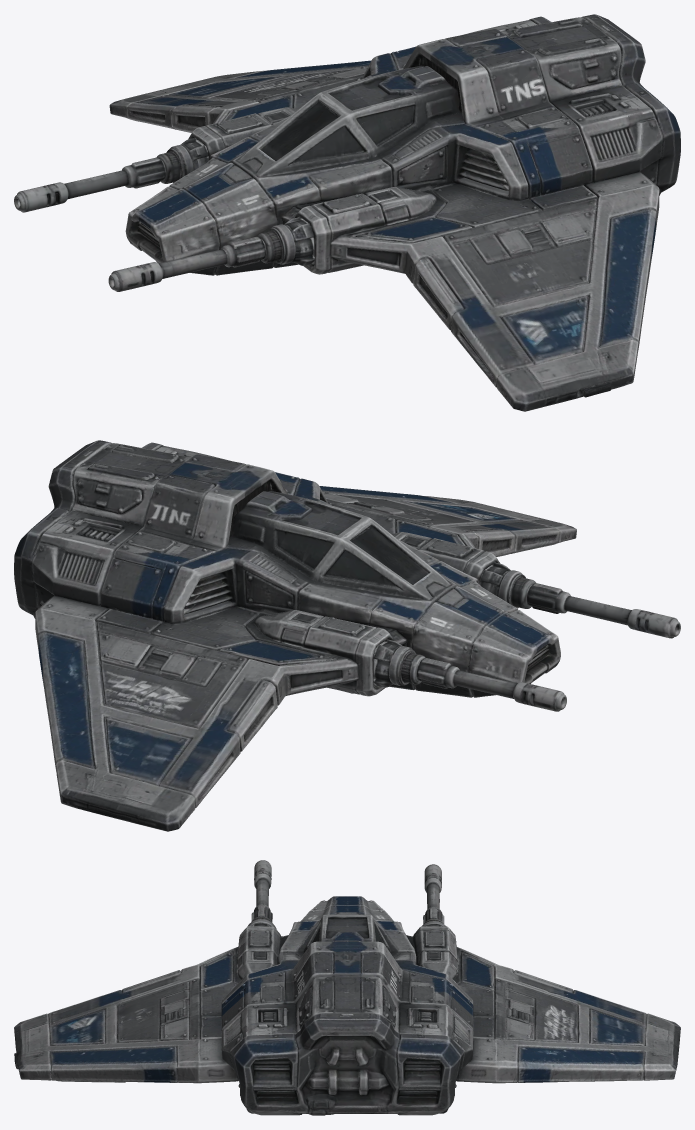
File: fbda986e-b234-4a23-b53a-0ce380de2516.glb
3 views of the same model, one above another, from view 1: azimuth 30°, elevation 25°; view 2: azimuth 150°, elevation 25°; view 3: azimuth 270°, elevation 25° (orthographic). The views are drawn at different scales.
Bounding box in the file's own units: 1.51 × 0.4534 × 1.9.
1 material, 1 textured.
